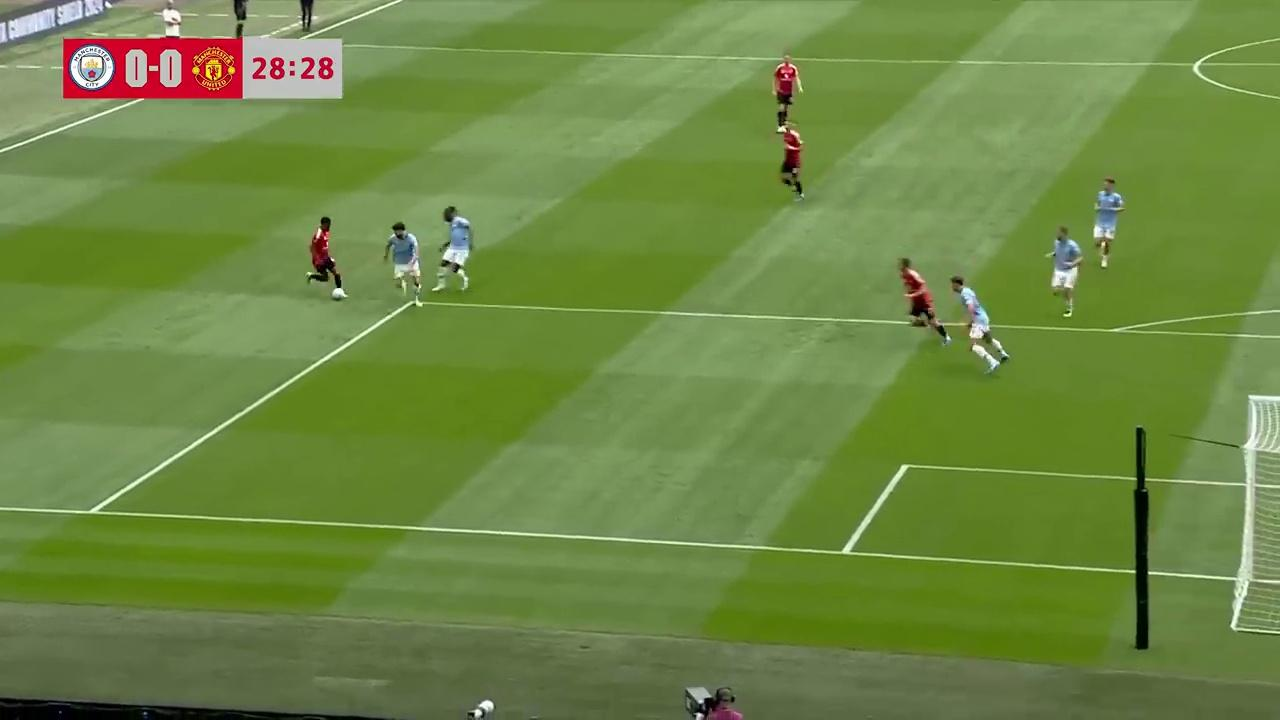ball: (331, 287, 349, 303)
player: (953, 277, 1009, 376), (897, 258, 952, 347), (305, 215, 347, 302), (432, 205, 473, 293), (1043, 225, 1082, 317), (382, 221, 424, 305), (1093, 176, 1124, 268), (771, 53, 803, 130), (777, 120, 805, 201)
